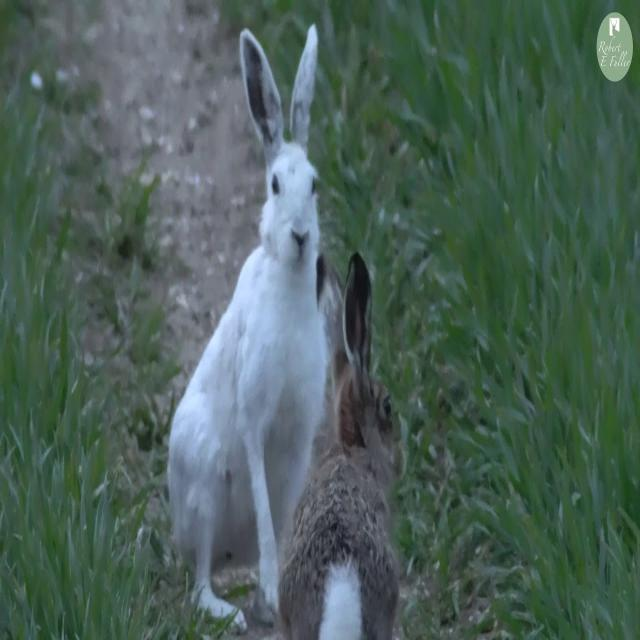Hare: (166, 17, 330, 622)
